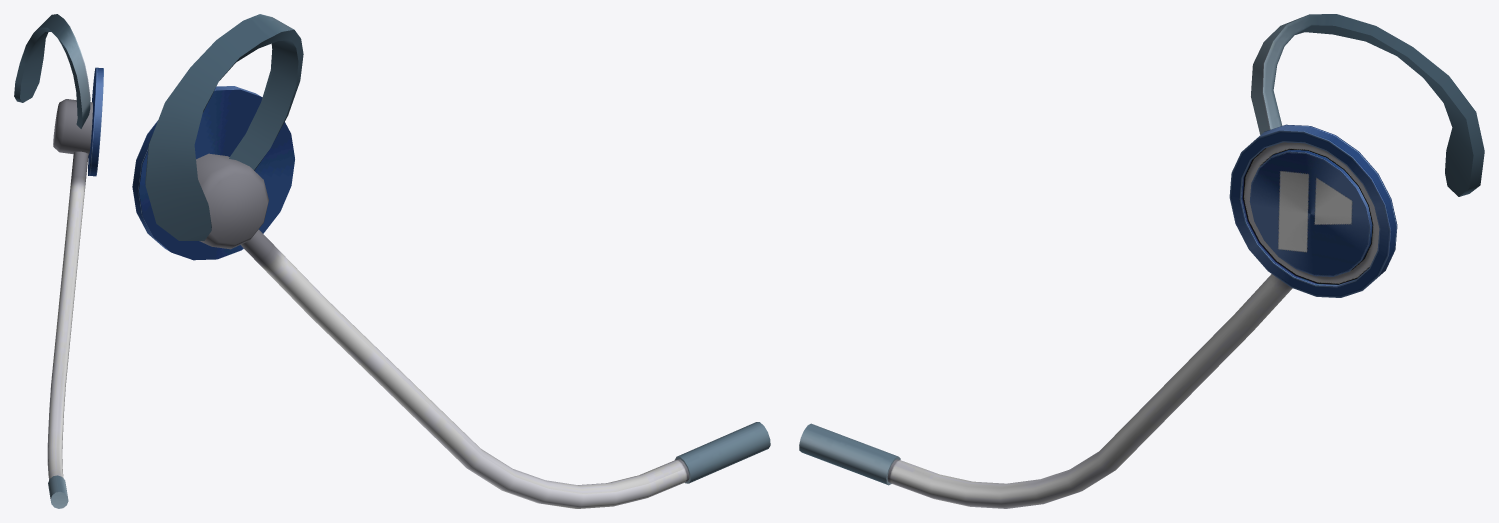
Rendered from EntrainingIntercomSubaru.fbx.
The picture shows the model from 3 angles, left to right: view 1: azimuth 30°, elevation 25°; view 2: azimuth 150°, elevation 25°; view 3: azimuth 270°, elevation 25°; orthographic projection. The views are drawn at different scales.
Visible parts, largest first — view 1: EntrainingIntercomSubaru; view 2: EntrainingIntercomSubaru; view 3: EntrainingIntercomSubaru.
Boxes of the visible parts, box(x1,y1,x2,y2) form: EntrainingIntercomSubaru: box(14, 14, 103, 508); EntrainingIntercomSubaru: box(132, 14, 770, 508); EntrainingIntercomSubaru: box(799, 14, 1484, 508).
Size of the model in its own units: 0.0511 by 0.077 by 0.0813.
1 material, 1 textured.
